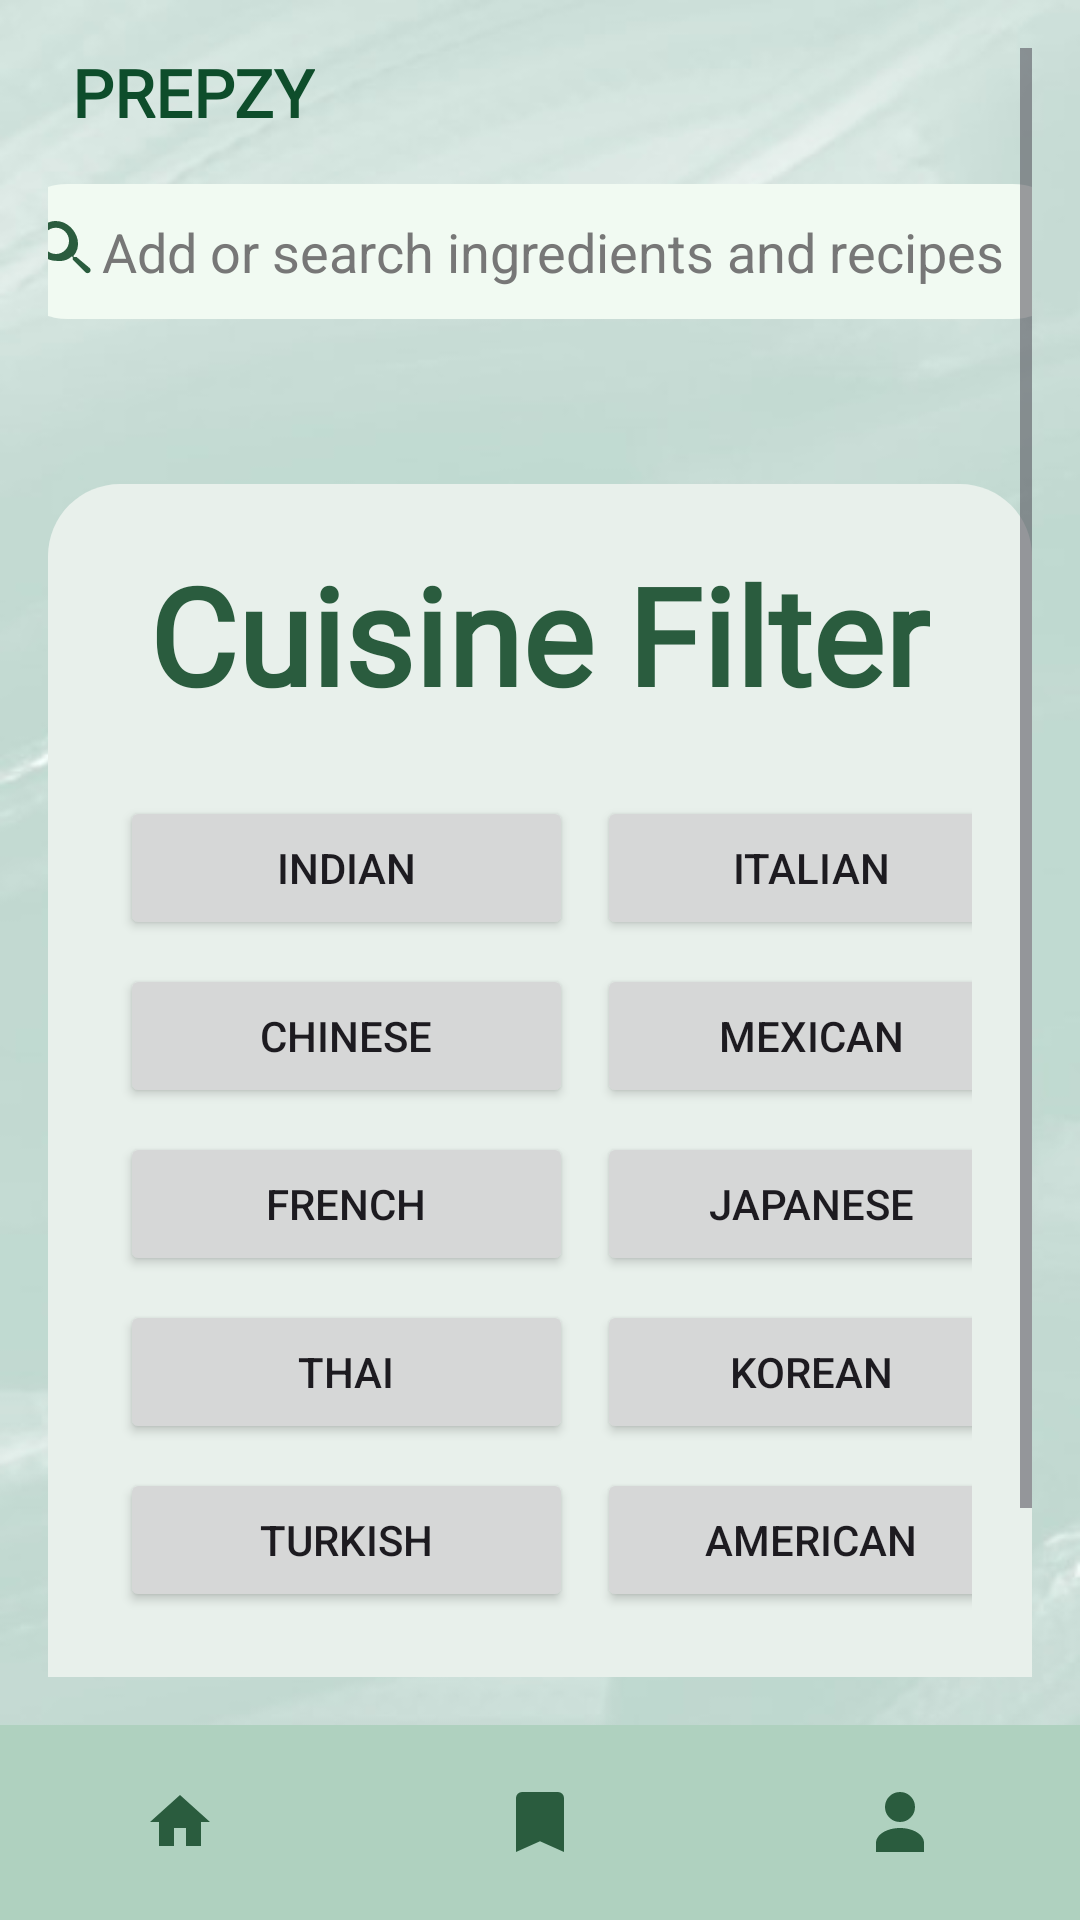

Icons on this 1080x1920 Android screen, each with the point to tap as (x,y):
Bookmarks: (540,1822)
Home: (180,1820)
Profile: (900,1822)
